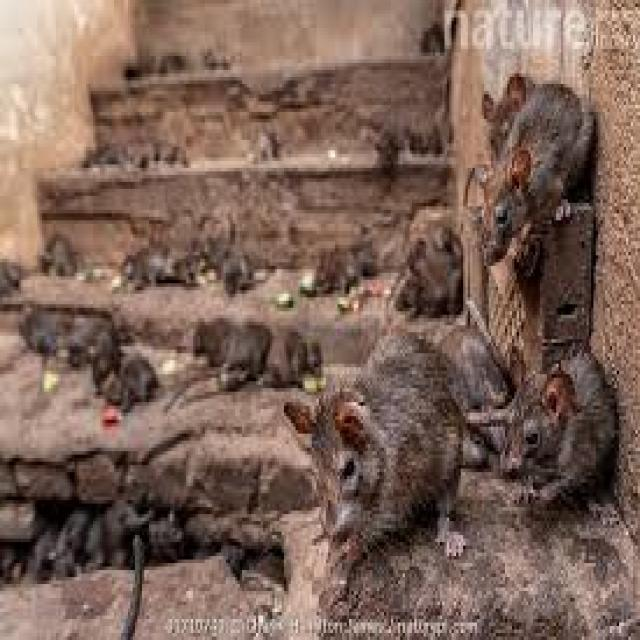rat: (282, 325, 468, 563), (463, 339, 619, 511), (479, 70, 596, 245)
